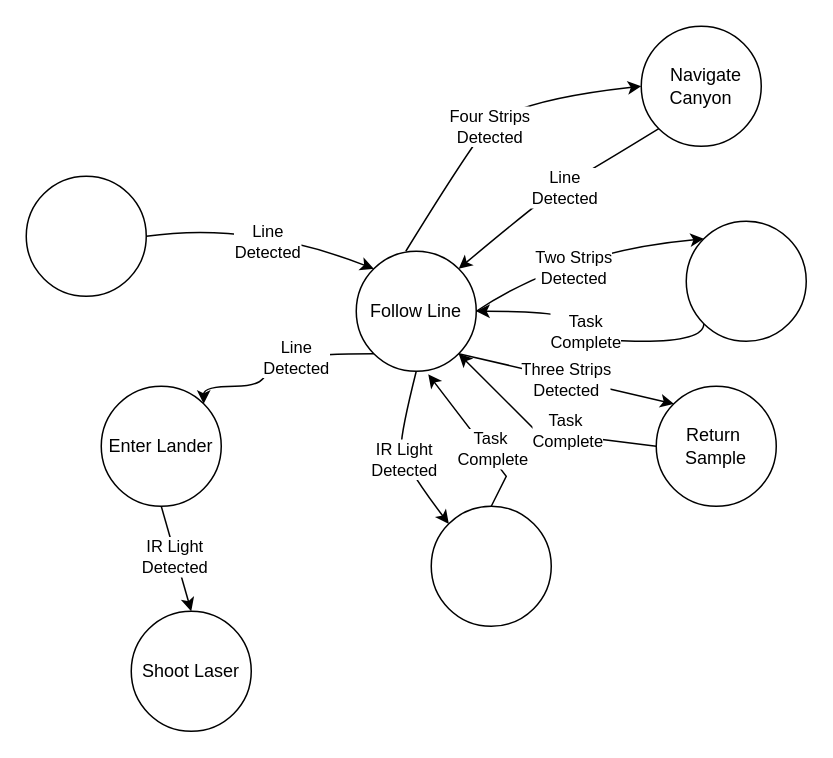
This 833x758 diagram has some shape labels left out. The centre of each missing label's shape, as x and y in pixels:
"Collect Sample" goes at [745,280].
"Service Equipment" goes at [490,565].
"Start" goes at [85,235].
